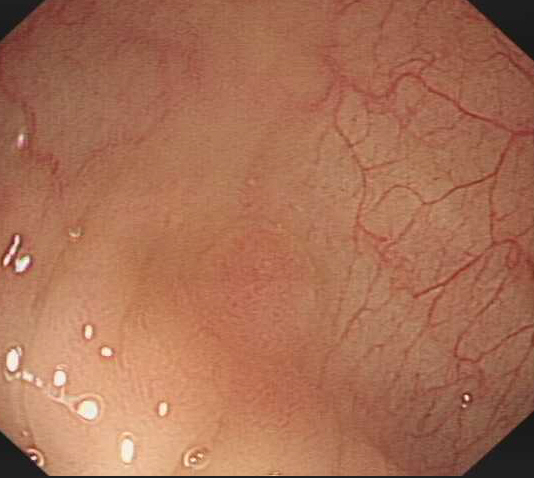others: (184, 217, 328, 362)
